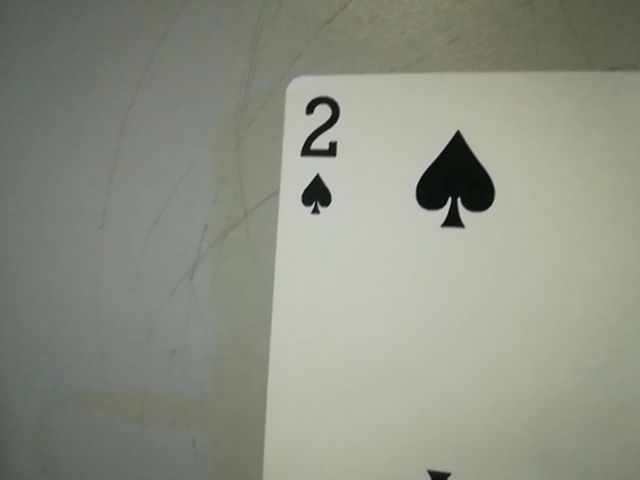ht 2: (285, 88, 351, 224)
